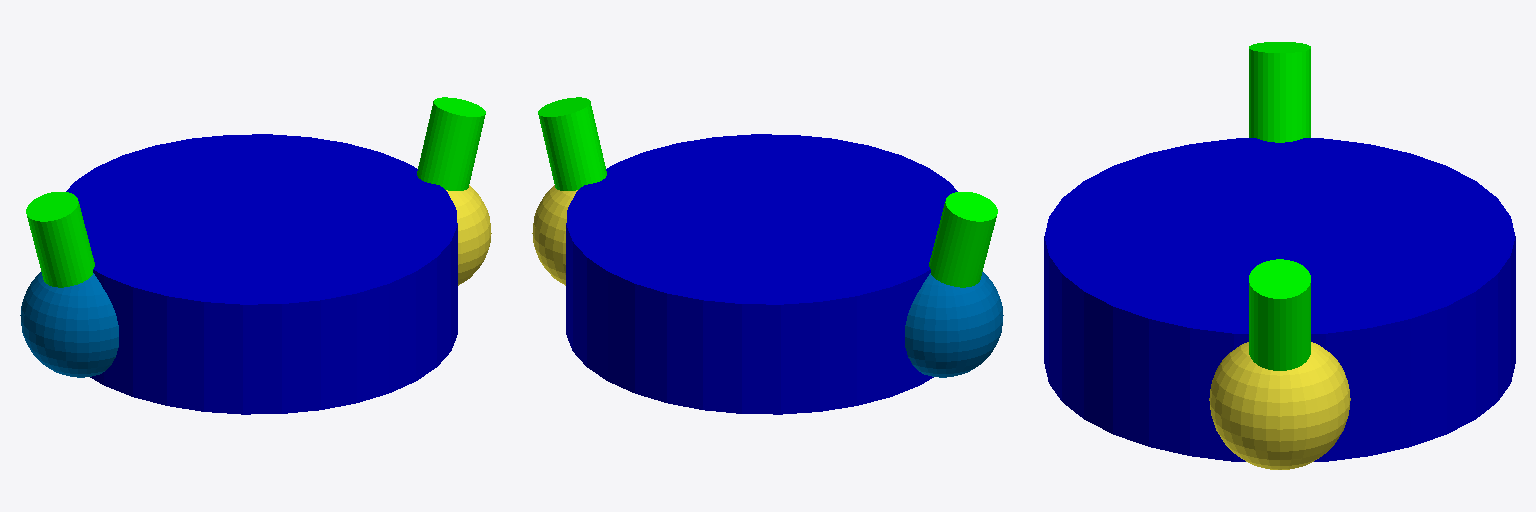
URDF robot description (gripper_2f_1j):
<?xml version='1.0' encoding='UTF-8'?>
<robot name="gripper_2f_1j">
  <link name="palm">
    <inertial>
      <origin xyz="0.0 0.0 0.0" rpy="0.0 -0.0 0.0"/>
      <mass value="1.0"/>
      <inertia ixx="1.0" ixy="0.0" ixz="0.0" iyy="1.0" iyz="0.0" izz="1.0"/>
    </inertial>
    <visual>
      <geometry>
        <cylinder radius="0.05" length="0.03"/>
      </geometry>
      <material name="blue"/>
      <origin xyz="0.0 0.0 0.0" rpy="0.0 -0.0 0.0"/>
    </visual>
    <collision>
      <geometry>
        <cylinder radius="0.05" length="0.03"/>
      </geometry>
      <origin xyz="0.0 0.0 0.0" rpy="0.0 0.0 0.0"/>
    </collision>
  </link>
  <link name="f11">
    <inertial>
      <origin xyz="0.0 0.0 0.0" rpy="0.0 -0.0 0.0"/>
      <mass value="1.0"/>
      <inertia ixx="1.0" ixy="0.0" ixz="0.0" iyy="1.0" iyz="0.0" izz="1.0"/>
    </inertial>
    <visual>
      <geometry>
        <cylinder radius="0.006649027267100594" length="0.03310900714851261"/>
      </geometry>
      <material name="green"/>
      <origin xyz="0.0 0.0 0.016554503574256304" rpy="0.0 -0.0 0.0"/>
    </visual>
    <collision>
      <geometry>
        <cylinder radius="0.006649027267100594" length="0.03310900714851261"/>
      </geometry>
      <origin xyz="0.0 0.0 0.05" rpy="0.0 0.0 0.0"/>
    </collision>
  </link>
  <link name="f21">
    <inertial>
      <origin xyz="0.0 0.0 0.0" rpy="0.0 -0.0 0.0"/>
      <mass value="1.0"/>
      <inertia ixx="1.0" ixy="0.0" ixz="0.0" iyy="1.0" iyz="0.0" izz="1.0"/>
    </inertial>
    <visual>
      <geometry>
        <cylinder radius="0.006649027267100594" length="0.03310900714851261"/>
      </geometry>
      <material name="green"/>
      <origin xyz="0.0 0.0 0.016554503574256304" rpy="0.0 -0.0 0.0"/>
    </visual>
    <collision>
      <geometry>
        <cylinder radius="0.006649027267100594" length="0.03310900714851261"/>
      </geometry>
      <origin xyz="0.0 0.0 0.05" rpy="0.0 0.0 0.0"/>
    </collision>
  </link>
  <link name="f11_base">
    <inertial>
      <origin xyz="0.0 0.0 0.0" rpy="0.0 -0.0 0.0"/>
      <mass value="1.0"/>
      <inertia ixx="1.0" ixy="0.0" ixz="0.0" iyy="1.0" iyz="0.0" izz="1.0"/>
    </inertial>
    <visual>
      <geometry>
        <sphere radius="0.015"/>
      </geometry>
      <origin xyz="0.0 0.0 0.0" rpy="0.0 -0.0 0.0"/>
    </visual>
  </link>
  <link name="f21_base">
    <inertial>
      <origin xyz="0.0 0.0 0.0" rpy="0.0 -0.0 0.0"/>
      <mass value="1.0"/>
      <inertia ixx="1.0" ixy="0.0" ixz="0.0" iyy="1.0" iyz="0.0" izz="1.0"/>
    </inertial>
    <visual>
      <geometry>
        <sphere radius="0.015"/>
      </geometry>
      <origin xyz="0.0 0.0 0.0" rpy="0.0 -0.0 0.0"/>
    </visual>
  </link>
  <joint name="f11_joint" type="revolute">
    <dynamics damping="100.0" friction="1.0"/>
    <limit effort="30.0" velocity="2.0" lower="-0.6" upper="0.25"/>
    <parent link="f11_base"/>
    <child link="f11"/>
    <axis xyz="0. 1. 0."/>
    <origin xyz="0.0 0.0 0.0" rpy="0.0 0.25 0.0"/>
  </joint>
  <joint name="f21_joint" type="revolute">
    <dynamics damping="100.0" friction="1.0"/>
    <limit effort="30.0" velocity="2.0" lower="-0.6" upper="0.25"/>
    <parent link="f21_base"/>
    <child link="f21"/>
    <axis xyz=" 0. -1.  0."/>
    <origin xyz="0.0 0.0 0.0" rpy="0.0 -0.25 0.0"/>
  </joint>
  <joint name="f11_base_joint" type="fixed">
    <parent link="palm"/>
    <child link="f11_base"/>
    <axis xyz="1. 0. 0."/>
    <origin xyz="0.05 0.0 0.0" rpy="0.0 0.0 0.0"/>
  </joint>
  <joint name="f21_base_joint" type="fixed">
    <parent link="palm"/>
    <child link="f21_base"/>
    <axis xyz="1. 0. 0."/>
    <origin xyz="-0.05 -0.0 0.0" rpy="0.0 0.0 0.0"/>
  </joint>
  <material name="blue">
    <color rgba="0.  0.  0.8 1. "/>
  </material>
  <material name="green">
    <color rgba="0. 1. 0. 1."/>
  </material>
</robot>

--- Facts derived from the render (not from the file) ---
3 views of the same robot in one strip: view 1: azimuth 30°, elevation 25°; view 2: azimuth 150°, elevation 25°; view 3: azimuth 270°, elevation 25° (orthographic).
Robot: gripper_2f_1j — 5 links, 4 joints (2 revolute, 2 fixed); root link palm; default pose: all joints at 0.
Visible links, largest first — view 1: palm, f21_base, f21, f11, f11_base; view 2: palm, f21_base, f21, f11, f11_base; view 3: palm, f11_base, f11, f21.
Boxes of the visible links, x1,y1,x2,y2 form: palm: [66, 134, 457, 414]; f21_base: [20, 272, 118, 377]; f21: [26, 192, 94, 287]; f11: [417, 97, 485, 190]; f11_base: [446, 185, 491, 285]; palm: [566, 134, 957, 414]; f21_base: [905, 272, 1003, 377]; f21: [929, 192, 997, 287]; f11: [538, 97, 606, 190]; f11_base: [532, 185, 577, 285]; palm: [1044, 138, 1515, 461]; f11_base: [1209, 342, 1350, 469]; f11: [1249, 259, 1310, 370]; f21: [1249, 42, 1310, 142].
Size in the robot's own frame: 0.13 by 0.1 by 0.0487 metres.
Geometry: primitives only (box / cylinder / sphere), no mesh files.